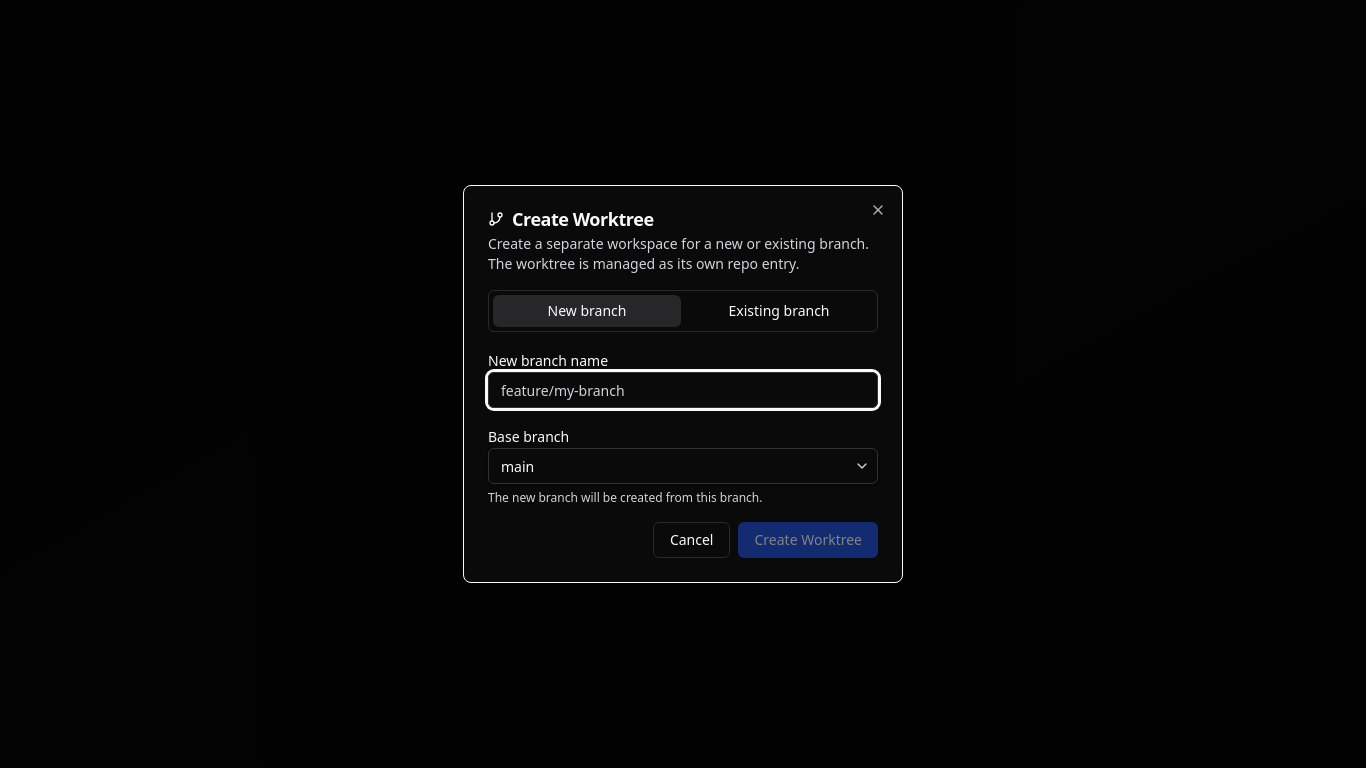
Test: CreateWorktreeDialog › prompts to use existing mode when a new branch name already exists
Type "feature" into the field with placeholder "feature/my-branch".
click(683, 390); type("feature")  # box [488,372,878,408]
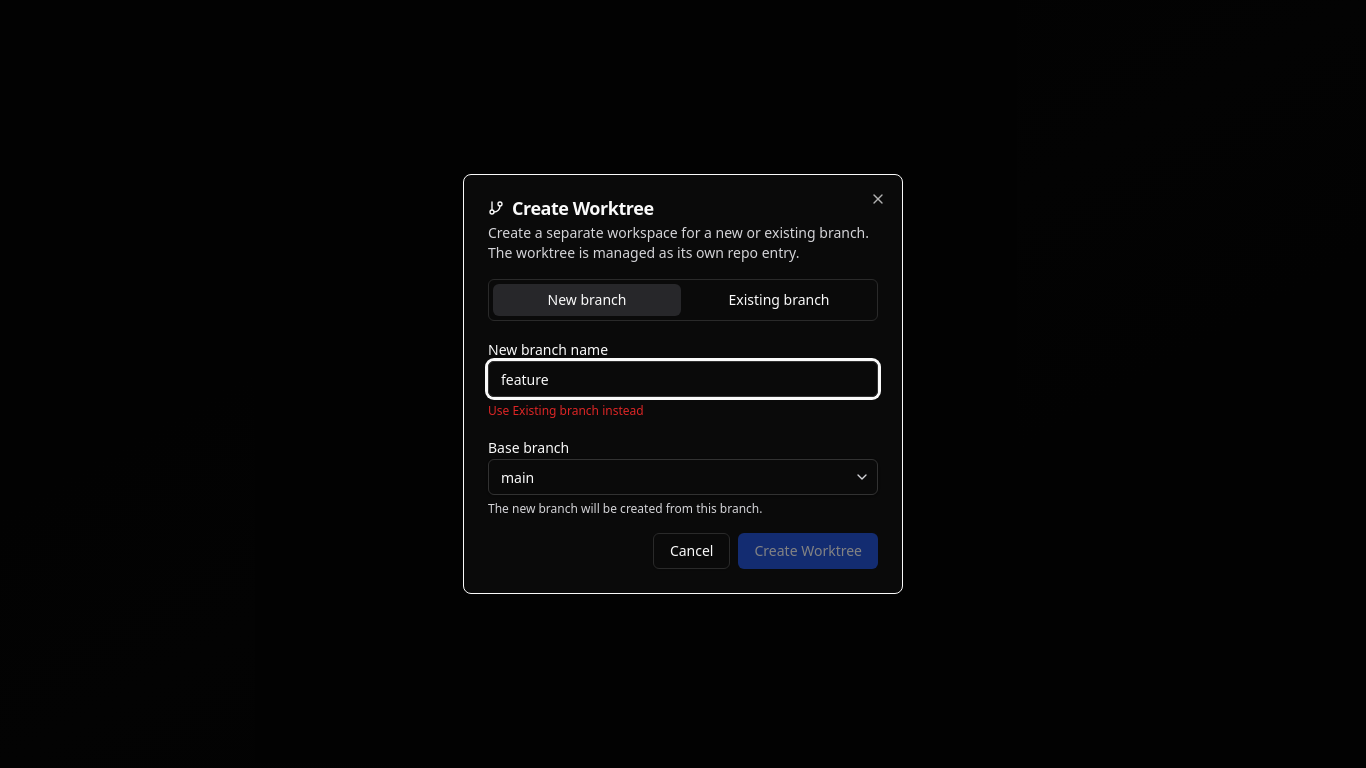
Expected: the button "Create Worktree" is disabled, [738,533,878,569]
Expected: the text "Use Existing branch instead" is shown, [488,402,644,419]
